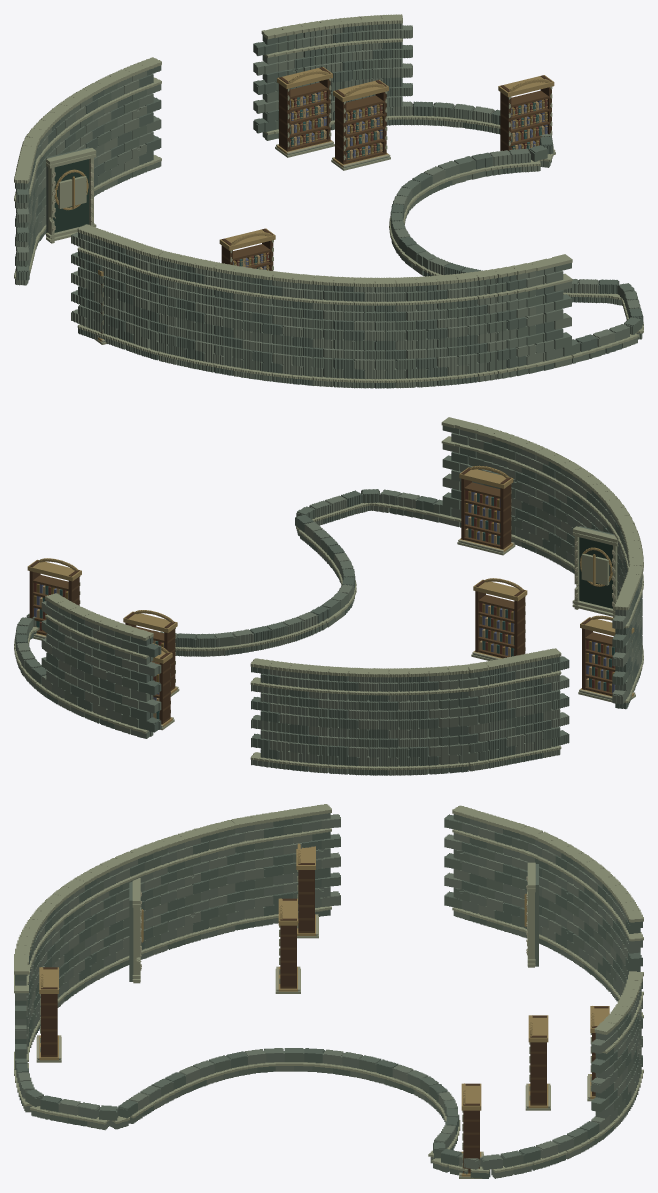
3 views of the same model, one above another, from view 1: azimuth 30°, elevation 25°; view 2: azimuth 150°, elevation 25°; view 3: azimuth 270°, elevation 25° (orthographic). The views are drawn at different scales.
Visible parts, largest first — view 1: CarvedMasonry_-1_2_00, CarvedMasonry_-2_1_00, CarvedMasonry_-3_0_00, CarvedMasonry_1_-3_00, CarvedMasonry_0_2_00, CarvedMasonry_-3_1_00, CarvedMasonry_-2_2_00, CarvedMasonry_-2_-3_00, CarvedMasonry_-1_-3_00, IlluminatedBookGalleries_01, CarvedLibraryShelves_03, Heraldry_08_01 (+13 smaller); view 2: CarvedMasonry_-2_-3_00, CarvedMasonry_-3_-2_00, CarvedMasonry_1_-3_00, CarvedMasonry_-1_2_00, CarvedMasonry_-1_-3_00, CarvedMasonry_0_-3_00, CarvedMasonry_0_2_00, CarvedLibraryShelves_01, IlluminatedBookGalleries_00, Heraldry_08_00, CarvedMasonry_-3_-3_00, CarvedLibraryShelves_02 (+15 smaller); view 3: CarvedMasonry_-3_0_00, CarvedMasonry_-3_-2_00, CarvedMasonry_-2_-3_00, CarvedMasonry_-2_1_00, CarvedMasonry_-3_1_00, CarvedMasonry_1_-3_00, CarvedMasonry_-1_2_00, CarvedMasonry_2_-2_00, CarvedMasonry_-2_2_00, CarvedMasonry_0_0_00, CarvedMasonry_0_-1_00, CarvedMasonry_1_1_00 (+17 smaller).
Part boxes in pixels (bbox=[...]): CarvedMasonry_-1_2_00: bbox=[395, 266, 517, 388]; CarvedMasonry_-2_1_00: bbox=[242, 269, 354, 387]; CarvedMasonry_-3_0_00: bbox=[86, 230, 200, 368]; CarvedMasonry_1_-3_00: bbox=[299, 14, 433, 130]; CarvedMasonry_0_2_00: bbox=[506, 254, 614, 375]; CarvedMasonry_-3_1_00: bbox=[185, 259, 256, 378]; CarvedMasonry_-2_2_00: bbox=[343, 277, 406, 388]; CarvedMasonry_-2_-3_00: bbox=[40, 75, 124, 196]; CarvedMasonry_-1_-3_00: bbox=[109, 57, 161, 183]; IlluminatedBookGalleries_01: bbox=[331, 79, 390, 170]; CarvedLibraryShelves_03: bbox=[275, 67, 334, 157]; Heraldry_08_01: bbox=[46, 147, 96, 243]; CarvedMasonry_-2_-3_00: bbox=[299, 665, 438, 775]; CarvedMasonry_-3_-2_00: bbox=[458, 648, 569, 771]; CarvedMasonry_1_-3_00: bbox=[32, 593, 121, 728]; CarvedMasonry_-1_2_00: bbox=[491, 430, 582, 572]; CarvedMasonry_-1_-3_00: bbox=[250, 658, 310, 771]; CarvedMasonry_0_-3_00: bbox=[106, 623, 161, 738]; CarvedMasonry_0_2_00: bbox=[398, 417, 500, 527]; CarvedLibraryShelves_01: bbox=[457, 465, 515, 555]; IlluminatedBookGalleries_00: bbox=[471, 578, 527, 660]; Heraldry_08_00: bbox=[572, 526, 618, 617]; CarvedMasonry_-3_-3_00: bbox=[428, 664, 468, 774]; CarvedLibraryShelves_02: bbox=[578, 615, 635, 702]; CarvedMasonry_-3_0_00: bbox=[194, 807, 321, 939]; CarvedMasonry_-3_-2_00: bbox=[444, 805, 542, 938]; CarvedMasonry_-2_-3_00: bbox=[555, 845, 628, 999]; CarvedMasonry_-2_1_00: bbox=[74, 845, 160, 987]; CarvedMasonry_-3_1_00: bbox=[144, 829, 208, 955]; CarvedMasonry_1_-3_00: bbox=[579, 988, 639, 1145]; CarvedMasonry_-1_2_00: bbox=[16, 894, 65, 1047]; CarvedMasonry_2_-2_00: bbox=[428, 1124, 550, 1178]; CarvedMasonry_-2_2_00: bbox=[53, 878, 90, 1001]; CarvedMasonry_0_0_00: bbox=[193, 1048, 324, 1085]; CarvedMasonry_0_-1_00: bbox=[312, 1049, 428, 1100]; CarvedMasonry_1_1_00: bbox=[78, 1078, 180, 1130].
Bounding box in the file's own units: 33.42 × 6.18 × 32.94.
